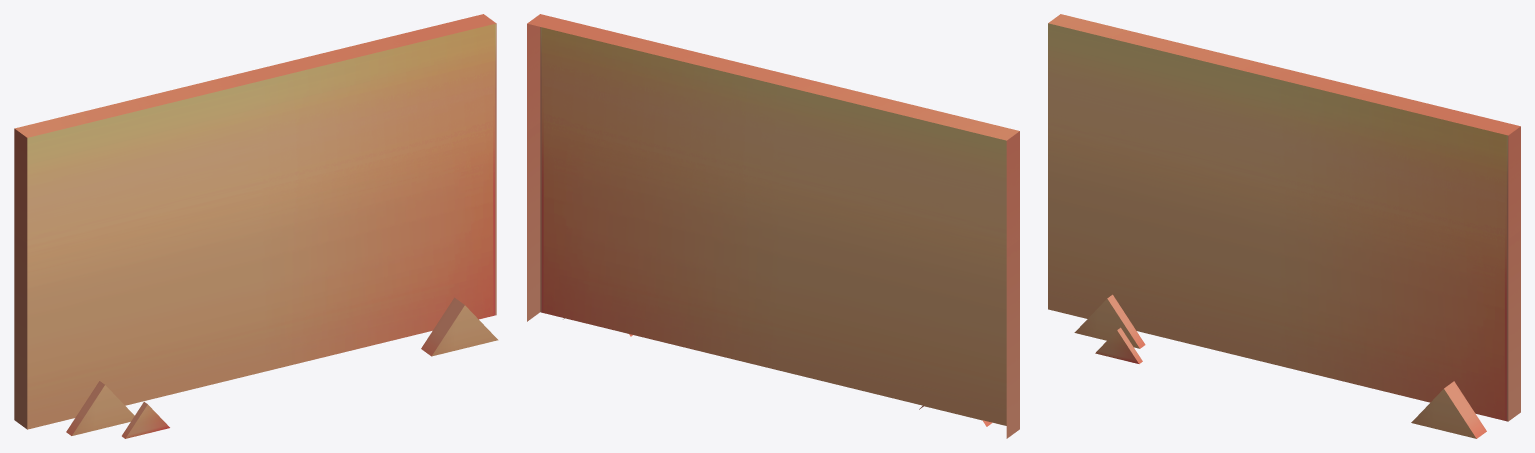
The model's file is wall_03_test.fbx.
3 renders of one model, left to right at view 1: azimuth 30°, elevation 25°; view 2: azimuth 150°, elevation 25°; view 3: azimuth 330°, elevation 25°, orthographic. The views are drawn at different scales.
Parts seen in each view (by area): view 1: pCube5; view 2: pCube5; view 3: pCube5.
Boxes of the visible parts, x1,y1,x2,y2 form: pCube5: (14, 14, 498, 438); pCube5: (527, 14, 1019, 438); pCube5: (1048, 14, 1520, 438).
Bounding box in the file's own units: 303 × 185 × 42.43.
